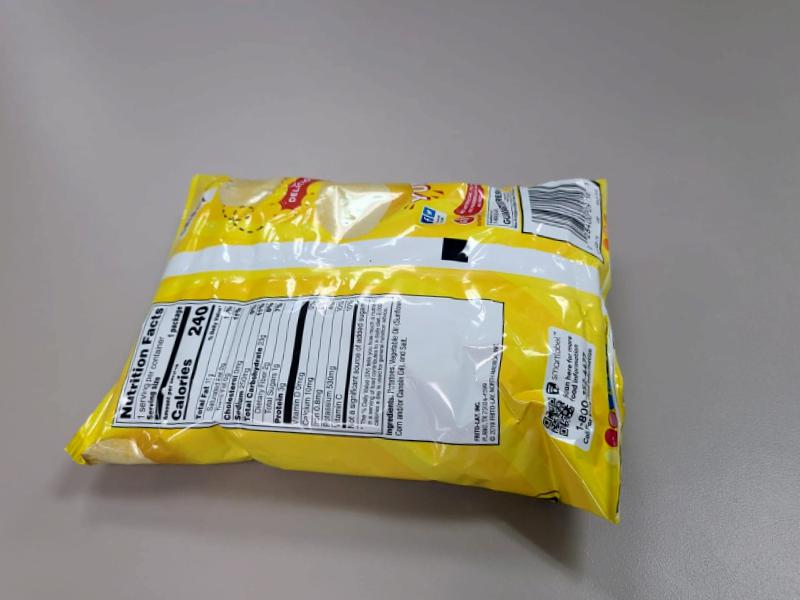lays: (131, 213, 660, 572)
